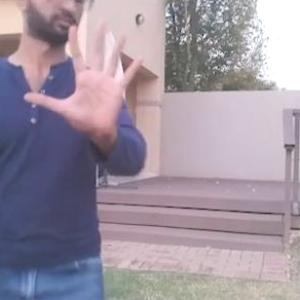follow_hand: (25, 14, 149, 138)
